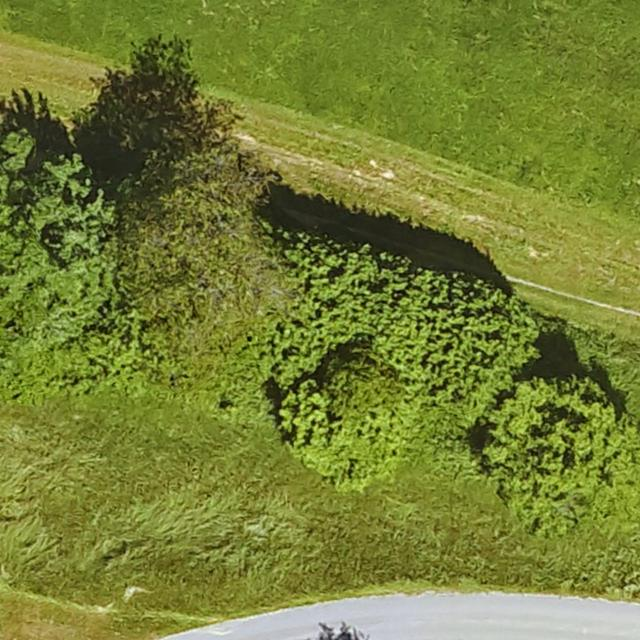tree: (123, 164, 284, 324), (487, 377, 632, 532), (0, 157, 119, 302), (278, 359, 412, 482)
